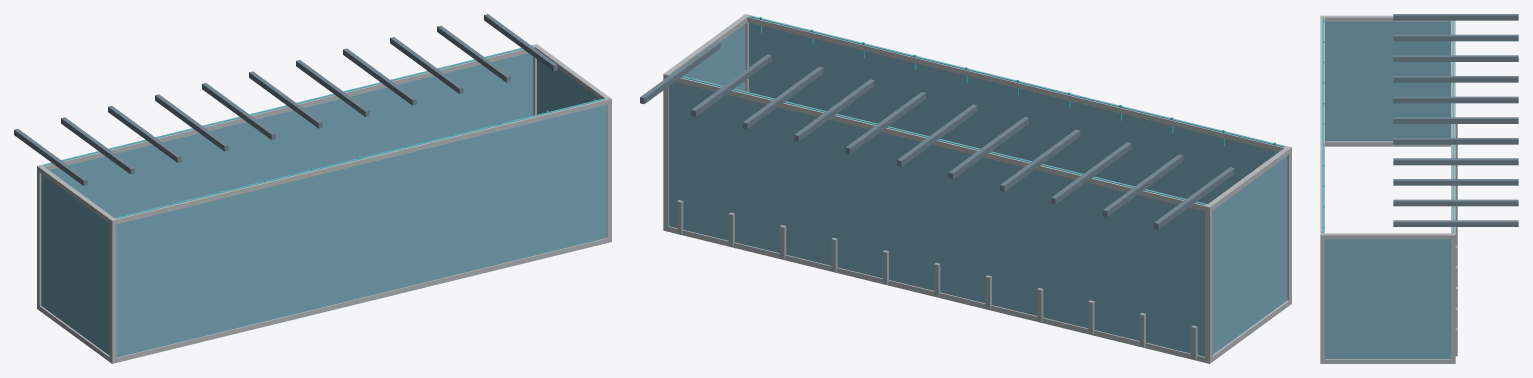
File: 01_L75_TransparentBeamlineSafetyEnclosure.glb
3 renders of one model, left to right at view 1: azimuth 30°, elevation 25°; view 2: azimuth 150°, elevation 25°; view 3: azimuth 270°, elevation 25°, orthographic. The views are drawn at different scales.
Visible parts, largest first — view 1: TransparentBeamlineSafetyEnclosure_Node_0013, TransparentBeamlineSafetyEnclosure_Node_0012, TransparentBeamlineSafetyEnclosure_Node_0014, TransparentBeamlineSafetyEnclosure_Node_0009, TransparentBeamlineSafetyEnclosure_Node_0005, TransparentBeamlineSafetyEnclosure_Node_0008, TransparentBeamlineSafetyEnclosure_Node_0015, TransparentBeamlineSafetyEnclosure_Node_0001, TransparentBeamlineSafetyEnclosure_Node_0050, TransparentBeamlineSafetyEnclosure_Node_0049, TransparentBeamlineSafetyEnclosure_Node_0017, TransparentBeamlineSafetyEnclosure_Node_0032 (+14 smaller); view 2: TransparentBeamlineSafetyEnclosure_Node_0012, TransparentBeamlineSafetyEnclosure_Node_0013, TransparentBeamlineSafetyEnclosure_Node_0014, TransparentBeamlineSafetyEnclosure_Node_0009, TransparentBeamlineSafetyEnclosure_Node_0008, TransparentBeamlineSafetyEnclosure_Node_0004, TransparentBeamlineSafetyEnclosure_Node_0015, TransparentBeamlineSafetyEnclosure_Node_0000, TransparentBeamlineSafetyEnclosure_Node_0050, TransparentBeamlineSafetyEnclosure_Node_0049, TransparentBeamlineSafetyEnclosure_Node_0002, TransparentBeamlineSafetyEnclosure_Node_0020 (+14 smaller); view 3: TransparentBeamlineSafetyEnclosure_Node_0015, TransparentBeamlineSafetyEnclosure_Node_0014, TransparentBeamlineSafetyEnclosure_Node_0020, TransparentBeamlineSafetyEnclosure_Node_0029, TransparentBeamlineSafetyEnclosure_Node_0038, TransparentBeamlineSafetyEnclosure_Node_0044, TransparentBeamlineSafetyEnclosure_Node_0011, TransparentBeamlineSafetyEnclosure_Node_0009, TransparentBeamlineSafetyEnclosure_Node_0017, TransparentBeamlineSafetyEnclosure_Node_0023, TransparentBeamlineSafetyEnclosure_Node_0026, TransparentBeamlineSafetyEnclosure_Node_0032 (+11 smaller).
Part boxes in pixels (x1,y1,x2,y2): TransparentBeamlineSafetyEnclosure_Node_0013: [116, 105, 606, 357]; TransparentBeamlineSafetyEnclosure_Node_0012: [49, 53, 533, 217]; TransparentBeamlineSafetyEnclosure_Node_0014: [41, 174, 109, 355]; TransparentBeamlineSafetyEnclosure_Node_0009: [110, 98, 607, 224]; TransparentBeamlineSafetyEnclosure_Node_0005: [110, 238, 607, 363]; TransparentBeamlineSafetyEnclosure_Node_0008: [37, 45, 534, 171]; TransparentBeamlineSafetyEnclosure_Node_0015: [537, 59, 599, 114]; TransparentBeamlineSafetyEnclosure_Node_0001: [109, 218, 116, 363]; TransparentBeamlineSafetyEnclosure_Node_0050: [116, 98, 605, 218]; TransparentBeamlineSafetyEnclosure_Node_0049: [44, 45, 532, 165]; TransparentBeamlineSafetyEnclosure_Node_0017: [14, 129, 87, 185]; TransparentBeamlineSafetyEnclosure_Node_0032: [249, 71, 322, 128]; TransparentBeamlineSafetyEnclosure_Node_0012: [668, 82, 1204, 356]; TransparentBeamlineSafetyEnclosure_Node_0013: [749, 23, 1278, 203]; TransparentBeamlineSafetyEnclosure_Node_0014: [1212, 156, 1287, 354]; TransparentBeamlineSafetyEnclosure_Node_0009: [743, 14, 1291, 151]; TransparentBeamlineSafetyEnclosure_Node_0008: [663, 72, 1212, 211]; TransparentBeamlineSafetyEnclosure_Node_0004: [663, 226, 1212, 363]; TransparentBeamlineSafetyEnclosure_Node_0015: [683, 24, 745, 91]; TransparentBeamlineSafetyEnclosure_Node_0000: [1205, 205, 1212, 363]; TransparentBeamlineSafetyEnclosure_Node_0050: [749, 15, 1284, 147]; TransparentBeamlineSafetyEnclosure_Node_0049: [670, 73, 1205, 205]; TransparentBeamlineSafetyEnclosure_Node_0002: [663, 72, 669, 230]; TransparentBeamlineSafetyEnclosure_Node_0020: [1102, 154, 1183, 216]; TransparentBeamlineSafetyEnclosure_Node_0015: [1325, 239, 1450, 358]; TransparentBeamlineSafetyEnclosure_Node_0014: [1325, 22, 1450, 141]; TransparentBeamlineSafetyEnclosure_Node_0020: [1393, 34, 1518, 41]; TransparentBeamlineSafetyEnclosure_Node_0029: [1393, 96, 1518, 103]; TransparentBeamlineSafetyEnclosure_Node_0038: [1393, 158, 1518, 165]; TransparentBeamlineSafetyEnclosure_Node_0044: [1393, 199, 1518, 206]; TransparentBeamlineSafetyEnclosure_Node_0011: [1321, 233, 1454, 239]; TransparentBeamlineSafetyEnclosure_Node_0009: [1320, 16, 1324, 239]; TransparentBeamlineSafetyEnclosure_Node_0017: [1393, 14, 1518, 20]; TransparentBeamlineSafetyEnclosure_Node_0023: [1393, 55, 1518, 61]; TransparentBeamlineSafetyEnclosure_Node_0026: [1393, 76, 1518, 82]; TransparentBeamlineSafetyEnclosure_Node_0032: [1393, 117, 1518, 123].
Bounding box in the file's own units: 13.45 × 3.88 × 5.13.
